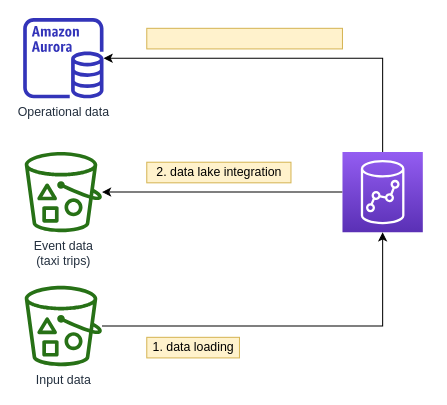
Some shapes in this 447 by 405 pixel diagram are drawn without their labels. Each missing label, with the centre of its shape:
"3. federated query to PostgreSQL" belongs at (x=244, y=38).
"Amazon Redshift" belongs at (x=382, y=191).
